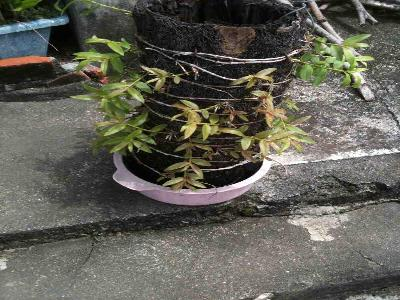plate: (111, 149, 274, 209)
